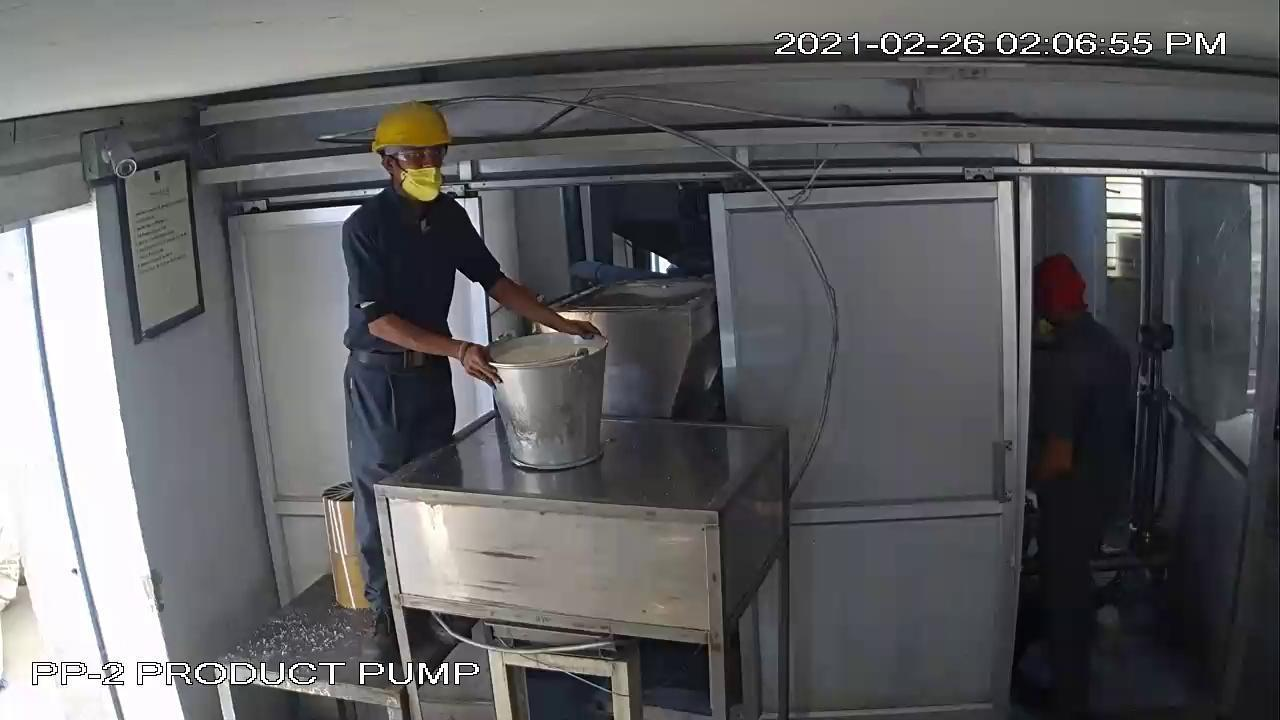helmet: (364, 97, 470, 169)
